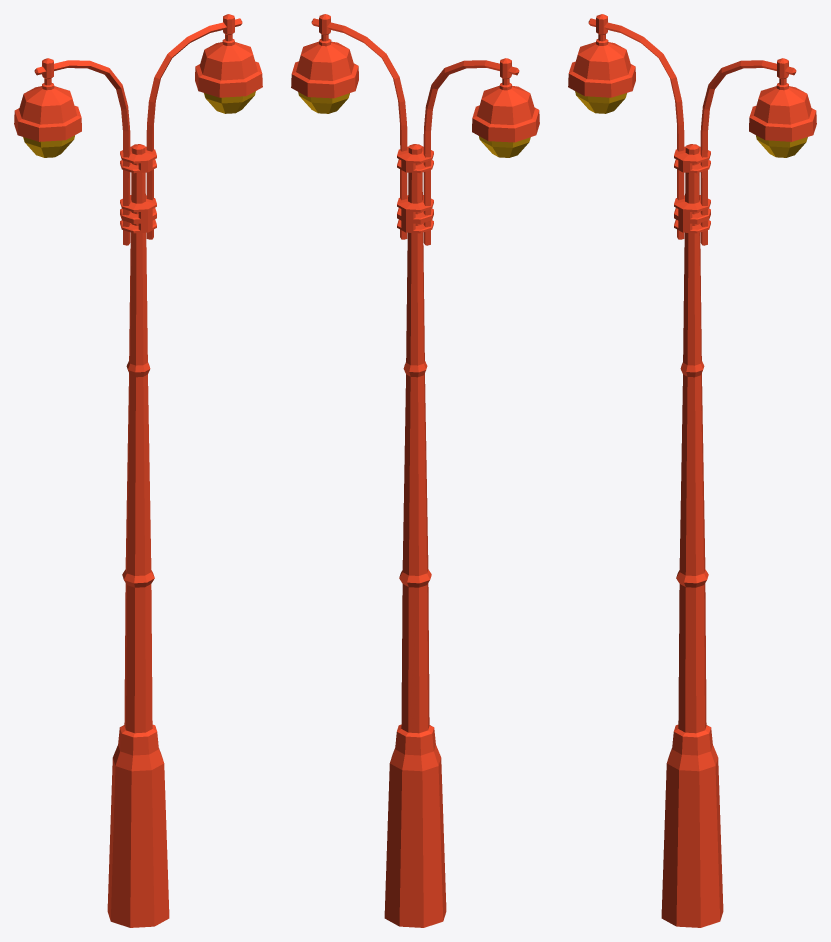
Rendered from SM_Lamp_Street_B_City.fbx.
The picture shows the model from 3 angles, left to right: view 1: azimuth 30°, elevation 25°; view 2: azimuth 150°, elevation 25°; view 3: azimuth 330°, elevation 25°; orthographic projection.
Parts seen in each view (by area): view 1: SM_Lamp_Street_B_City; view 2: SM_Lamp_Street_B_City; view 3: SM_Lamp_Street_B_City.
Boxes of the visible parts, <box> form: SM_Lamp_Street_B_City: <box>14,14,262,927</box>; SM_Lamp_Street_B_City: <box>291,14,539,927</box>; SM_Lamp_Street_B_City: <box>568,14,816,927</box>.
Size of the model in its own units: 1.6 by 5.57 by 0.4048.
